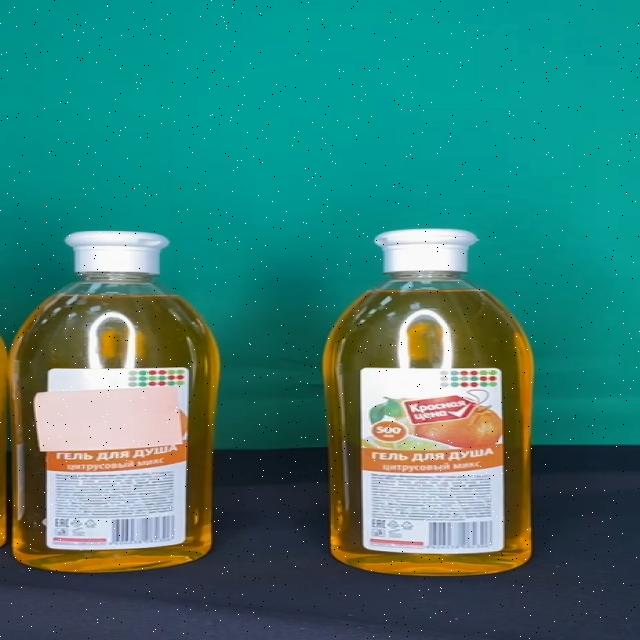Bottle: (320, 230, 536, 576), (11, 230, 220, 572)
Cap: (65, 231, 171, 274), (373, 229, 478, 272)
